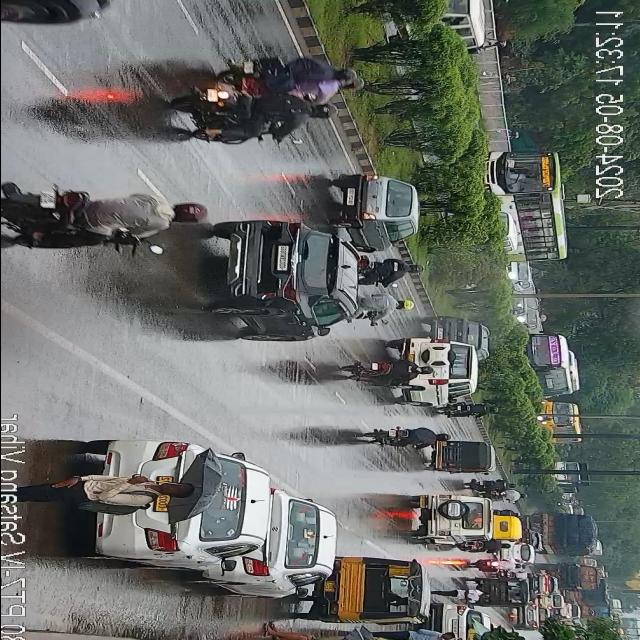2-wheelers: (13, 188, 203, 252), (176, 84, 322, 154), (214, 52, 354, 106), (528, 510, 600, 558), (352, 422, 448, 448), (360, 252, 420, 292), (353, 286, 403, 328), (343, 358, 428, 382), (464, 480, 522, 500), (470, 557, 522, 572)
auto: (312, 552, 426, 624), (425, 434, 489, 472), (474, 576, 526, 606)
bus: (475, 140, 560, 257), (516, 332, 580, 394)
car: (212, 218, 361, 348), (129, 442, 267, 570), (224, 496, 338, 594), (331, 171, 418, 255), (397, 337, 477, 402), (407, 492, 488, 551), (0, 0, 128, 35), (439, 0, 507, 54), (432, 594, 484, 640), (425, 314, 489, 348), (499, 540, 534, 566)
pedestrian: (19, 470, 202, 519), (256, 624, 346, 640), (379, 624, 456, 640)
